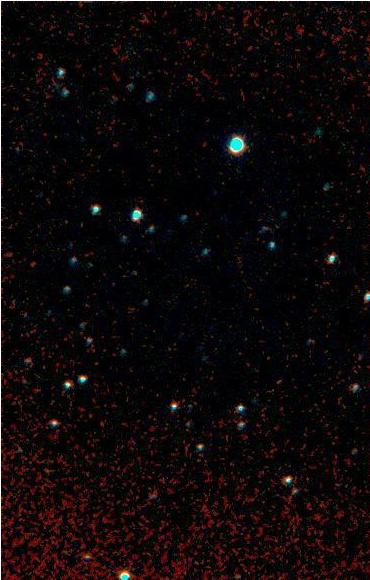star: (263, 365, 293, 395)
